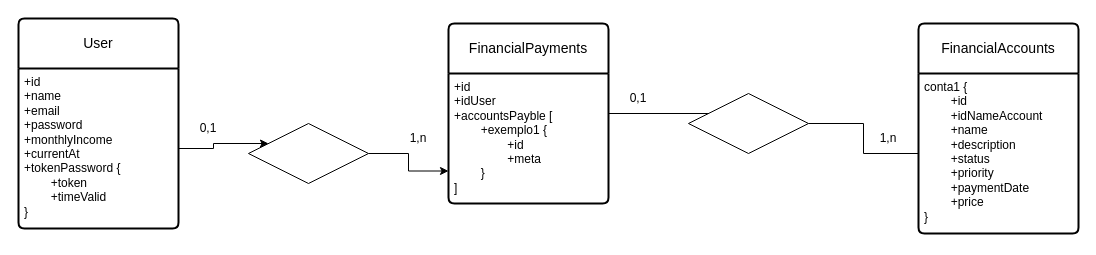
This 1096x255 diagram has some shape labels left out. Each missing label, with the centre of its shape:
Cadastra: point 308,153
Possui: point 748,123
